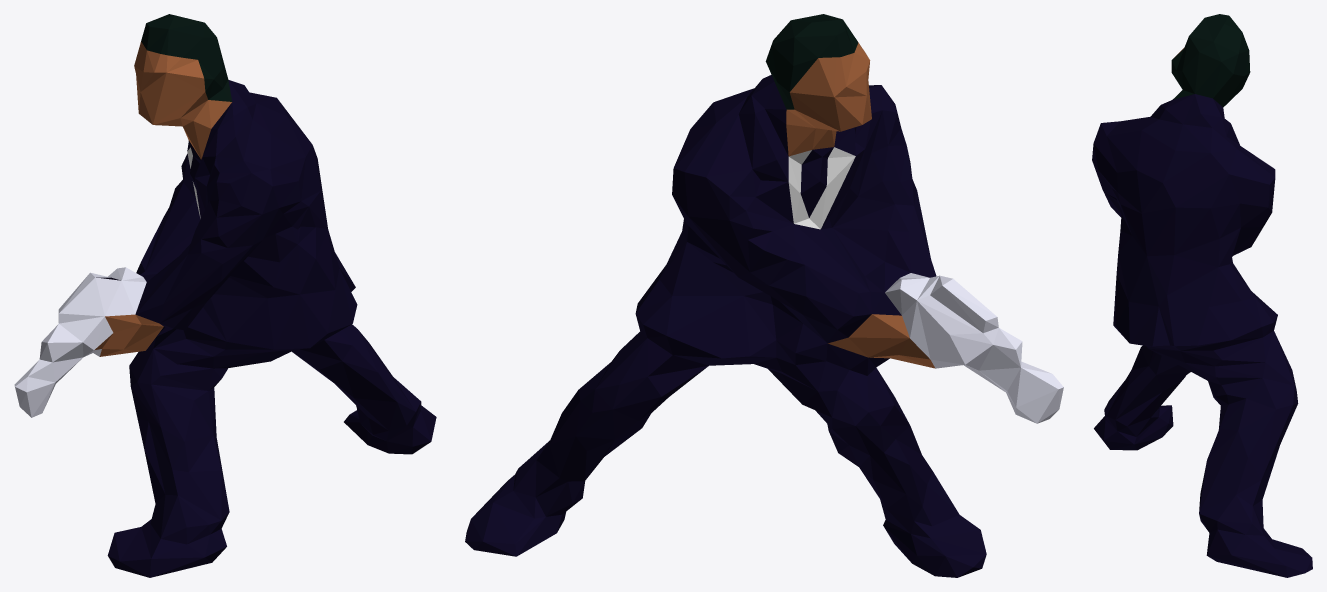
The model's file is krav_maga_3_low_poly_colored.glb.
The picture shows the model from 3 angles, left to right: view 1: azimuth 30°, elevation 25°; view 2: azimuth 150°, elevation 25°; view 3: azimuth 270°, elevation 25°; orthographic projection. The views are drawn at different scales.
Visible parts, largest first — view 1: Krav_Maga_3; view 2: Krav_Maga_3; view 3: Krav_Maga_3.
Boxes of the visible parts, bbox=[...] form: Krav_Maga_3: bbox=[14, 14, 436, 577]; Krav_Maga_3: bbox=[465, 14, 1063, 577]; Krav_Maga_3: bbox=[1092, 14, 1312, 577].
Bounding box in the file's own units: 1.44 × 1.47 × 0.6713.
